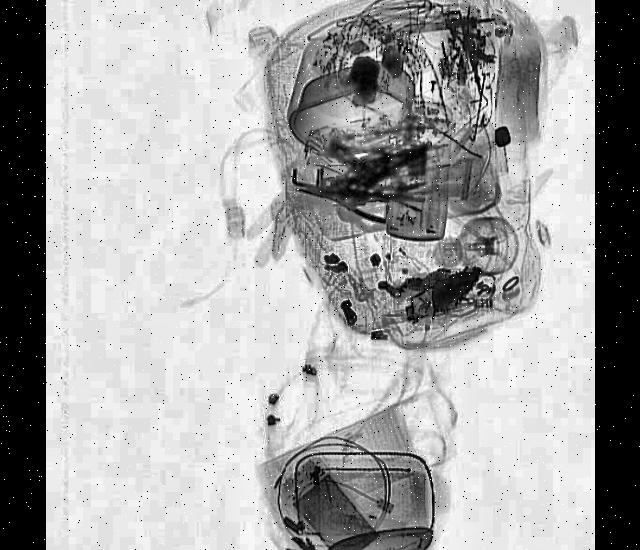Pliers: (292, 166, 391, 227)
